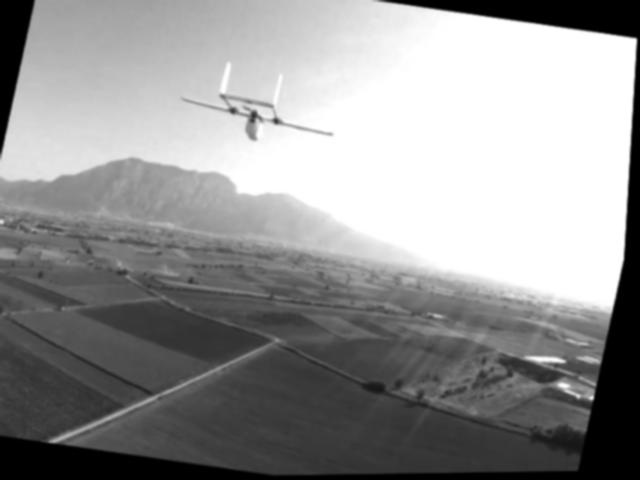hedef: (170, 49, 359, 169)
